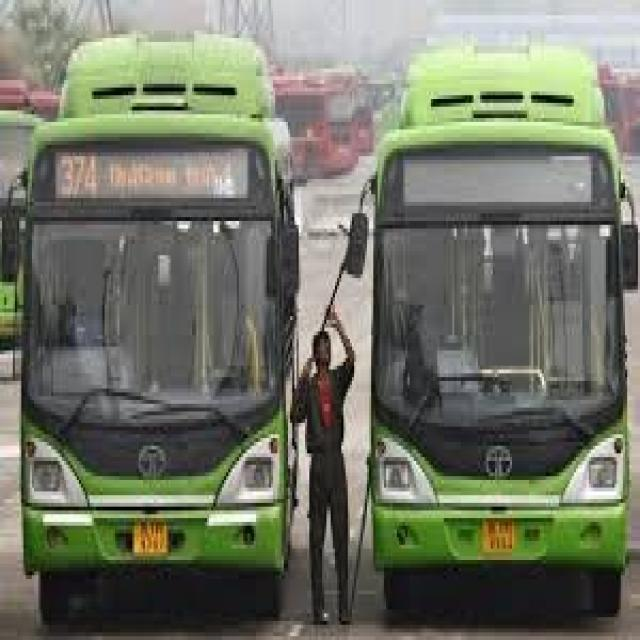bus: (352, 19, 640, 640), (11, 31, 306, 620)
